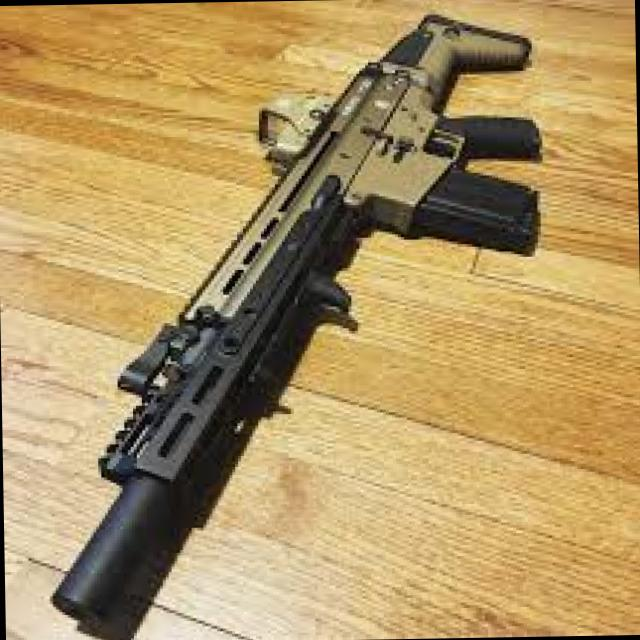Gun: (44, 3, 565, 640)
